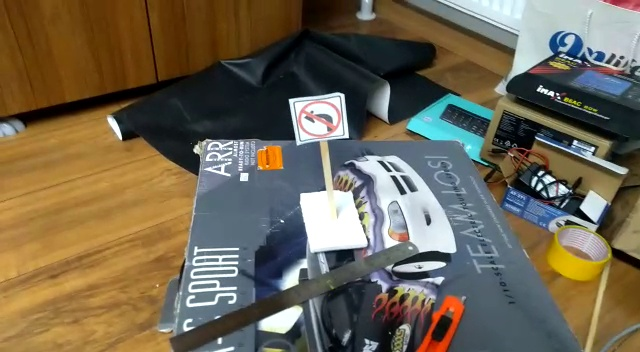sola_donulmez: (298, 95, 342, 142)
